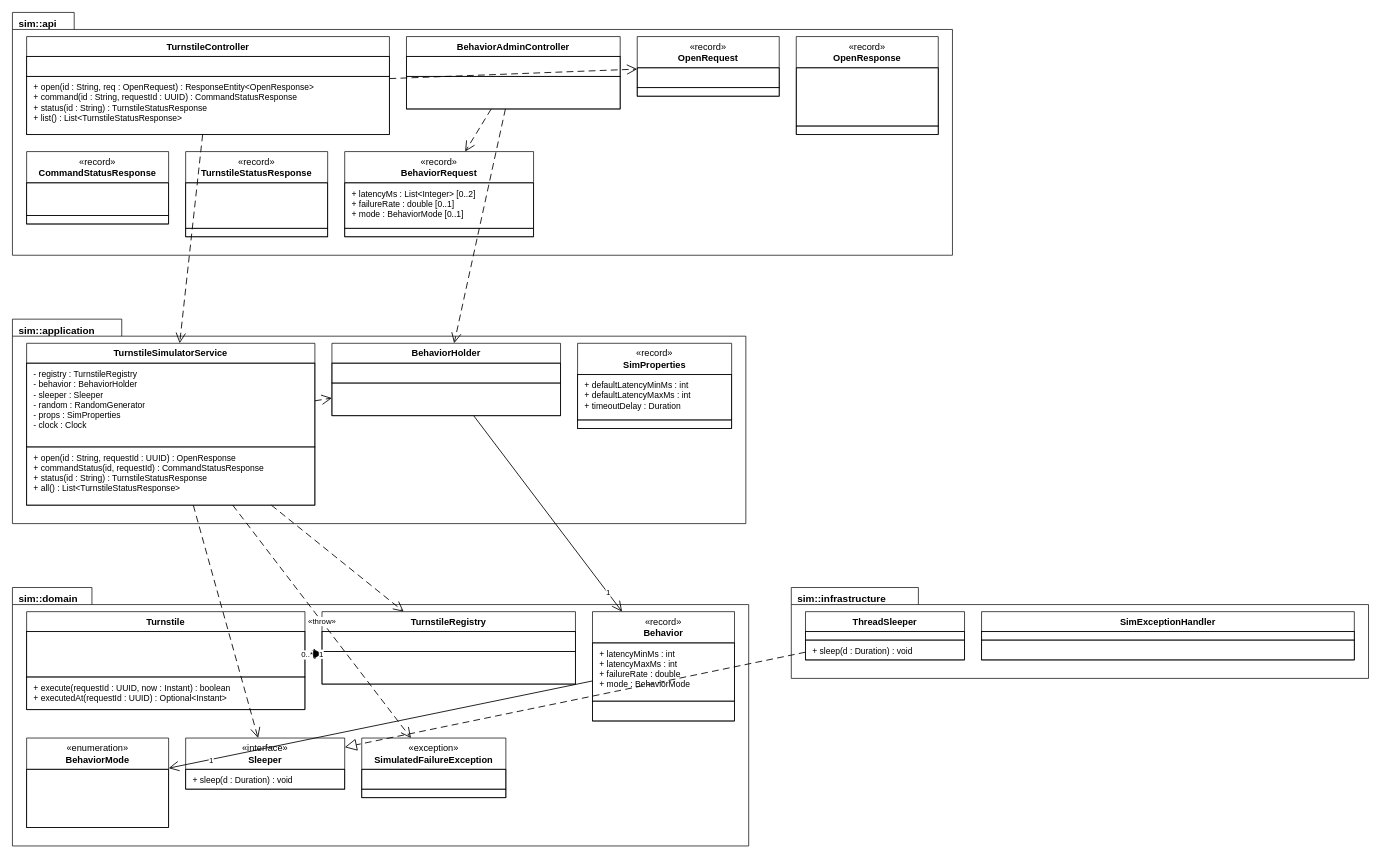
This 1381x858 diagram has some shape labels left out. The shapes that lost their labels are listed below. From the top down, each one's centre as x and y in pixels, then its label:
At [207,66]: "- service : TurnstileSimulatorService".
At [513,66]: "- behavior : BehaviorHolder".
At [708,77]: "+ requestId : UUID".
At [513,92]: "+ put(req : BehaviorRequest) : Behavior + get() : Behavior".
At [867,96]: "+ requestId : UUID + executed : boolean + duplicate : boolean + at : Instant".
At [97,198]: "+ executed : boolean + at : Instant [0..1]".
At [256,205]: "+ turnstileId : String + status : String + openCount : long".
At [446,372]: "- current : AtomicReference<Behavior>".
At [446,399]: "+ get() : Behavior + update(req : BehaviorRequest) : Behavior".
At [165,654]: "- id : String - openCount : long - executed : Map<UUID, Instant>".
At [448,641]: "- turnstiles : ConcurrentMap<String, Turnstile>".
At [1167,649]: "+ handle(e : SimulatedFailureException) : ResponseEntity<ProblemDetail>".
At [448,667]: "+ getOrCreate(id : String) : Turnstile + all() : Collection<Turnstile>".
At [663,710]: "+ status() : String".
At [97,798]: "NORMAL TIMEOUT ERROR EXECUTE_THEN_TIMEOUT".
At [433,779]: "- mode : BehaviorMode".
